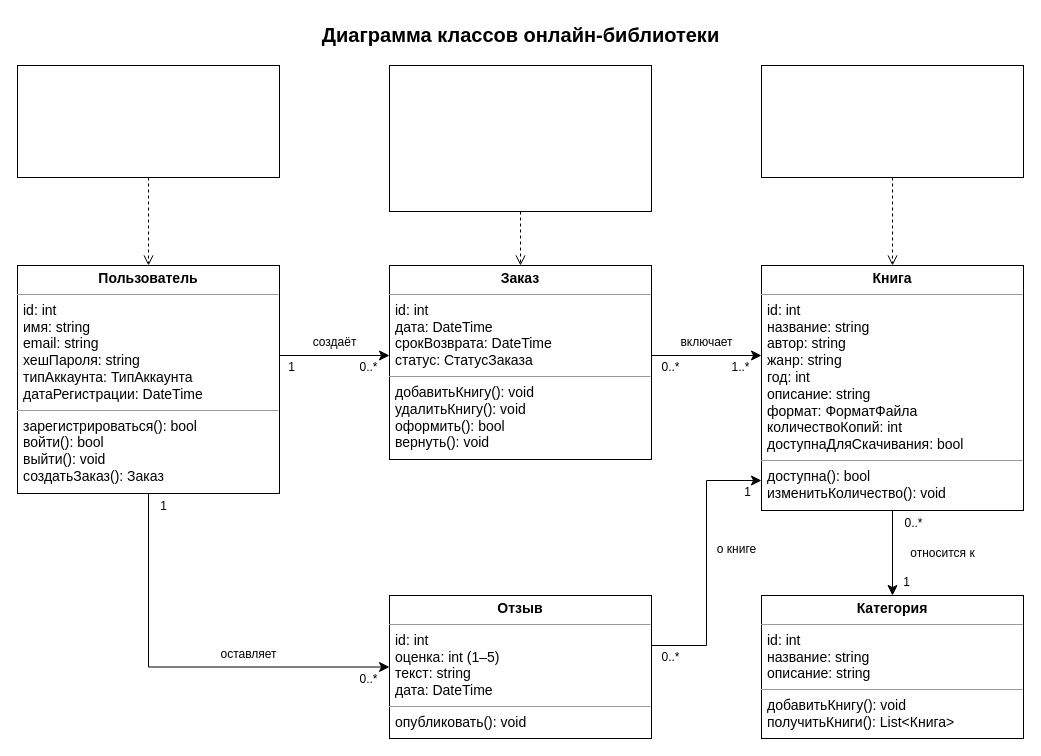
Some shapes in this 1041 by 756 pixel diagram are drawn without their labels. The shapes that lost their labels are listed below. From the top down, each one's centre as x and y in pixels, then its label:
At (148,121): "«enumeration» ТипАккаунта ЧИТАТЕЛЬ БИБЛИОТЕКАРЬ АДМИНИСТРАТОР".
At (520,138): "«enumeration» СтатусЗаказа ОФОРМЛЕН ВЫДАН ВОЗВРАЩЁН ПРОСРОЧЕН ОТМЕНЁН".
At (892,121): "«enumeration» ФорматФайла PDF EPUB FB2 (FictionBook)".
